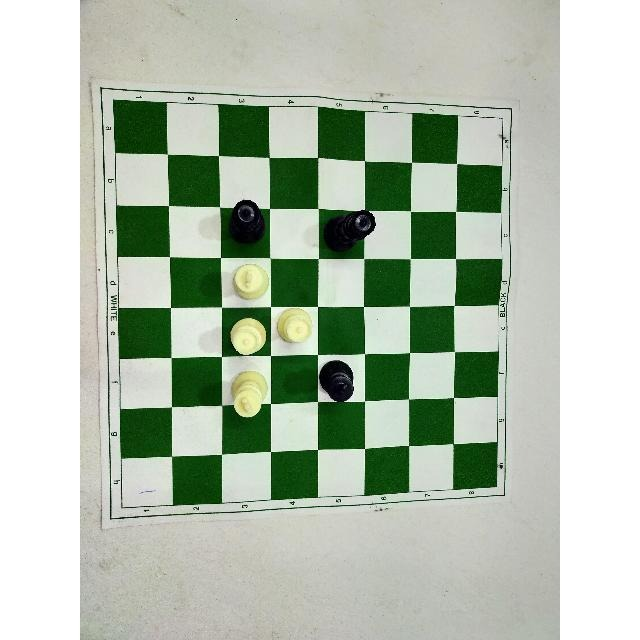black-king: (316, 356, 359, 405)
black-queen: (321, 207, 379, 259), (225, 196, 266, 247)
white-king: (228, 367, 272, 423), (230, 259, 272, 304)
white-queen: (228, 314, 270, 358), (275, 307, 315, 347)
